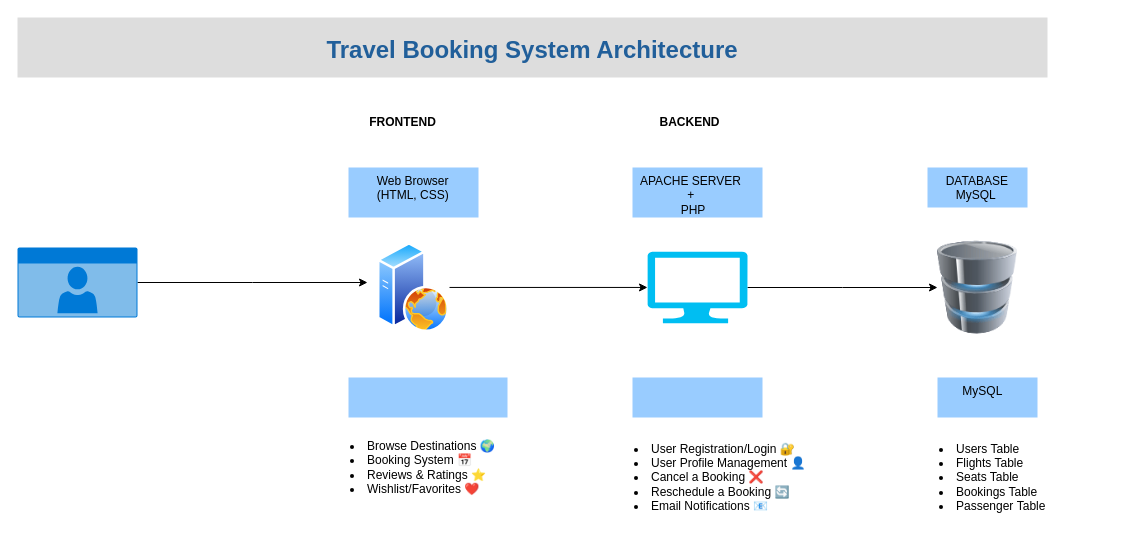
Some shapes in this 1143 by 534 pixel diagram are drawn without their labels. The shapes that lost their labels are listed below. From the top down, each one's centre as x and y in pixels, then its label:
the point at 77,282: User
the point at 427,397: HTTP Request (GET, POST)
the point at 697,397: SQL Queries
